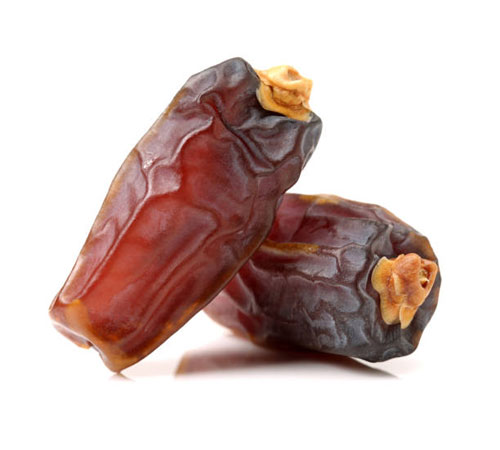hurmaa: (50, 49, 324, 396)
